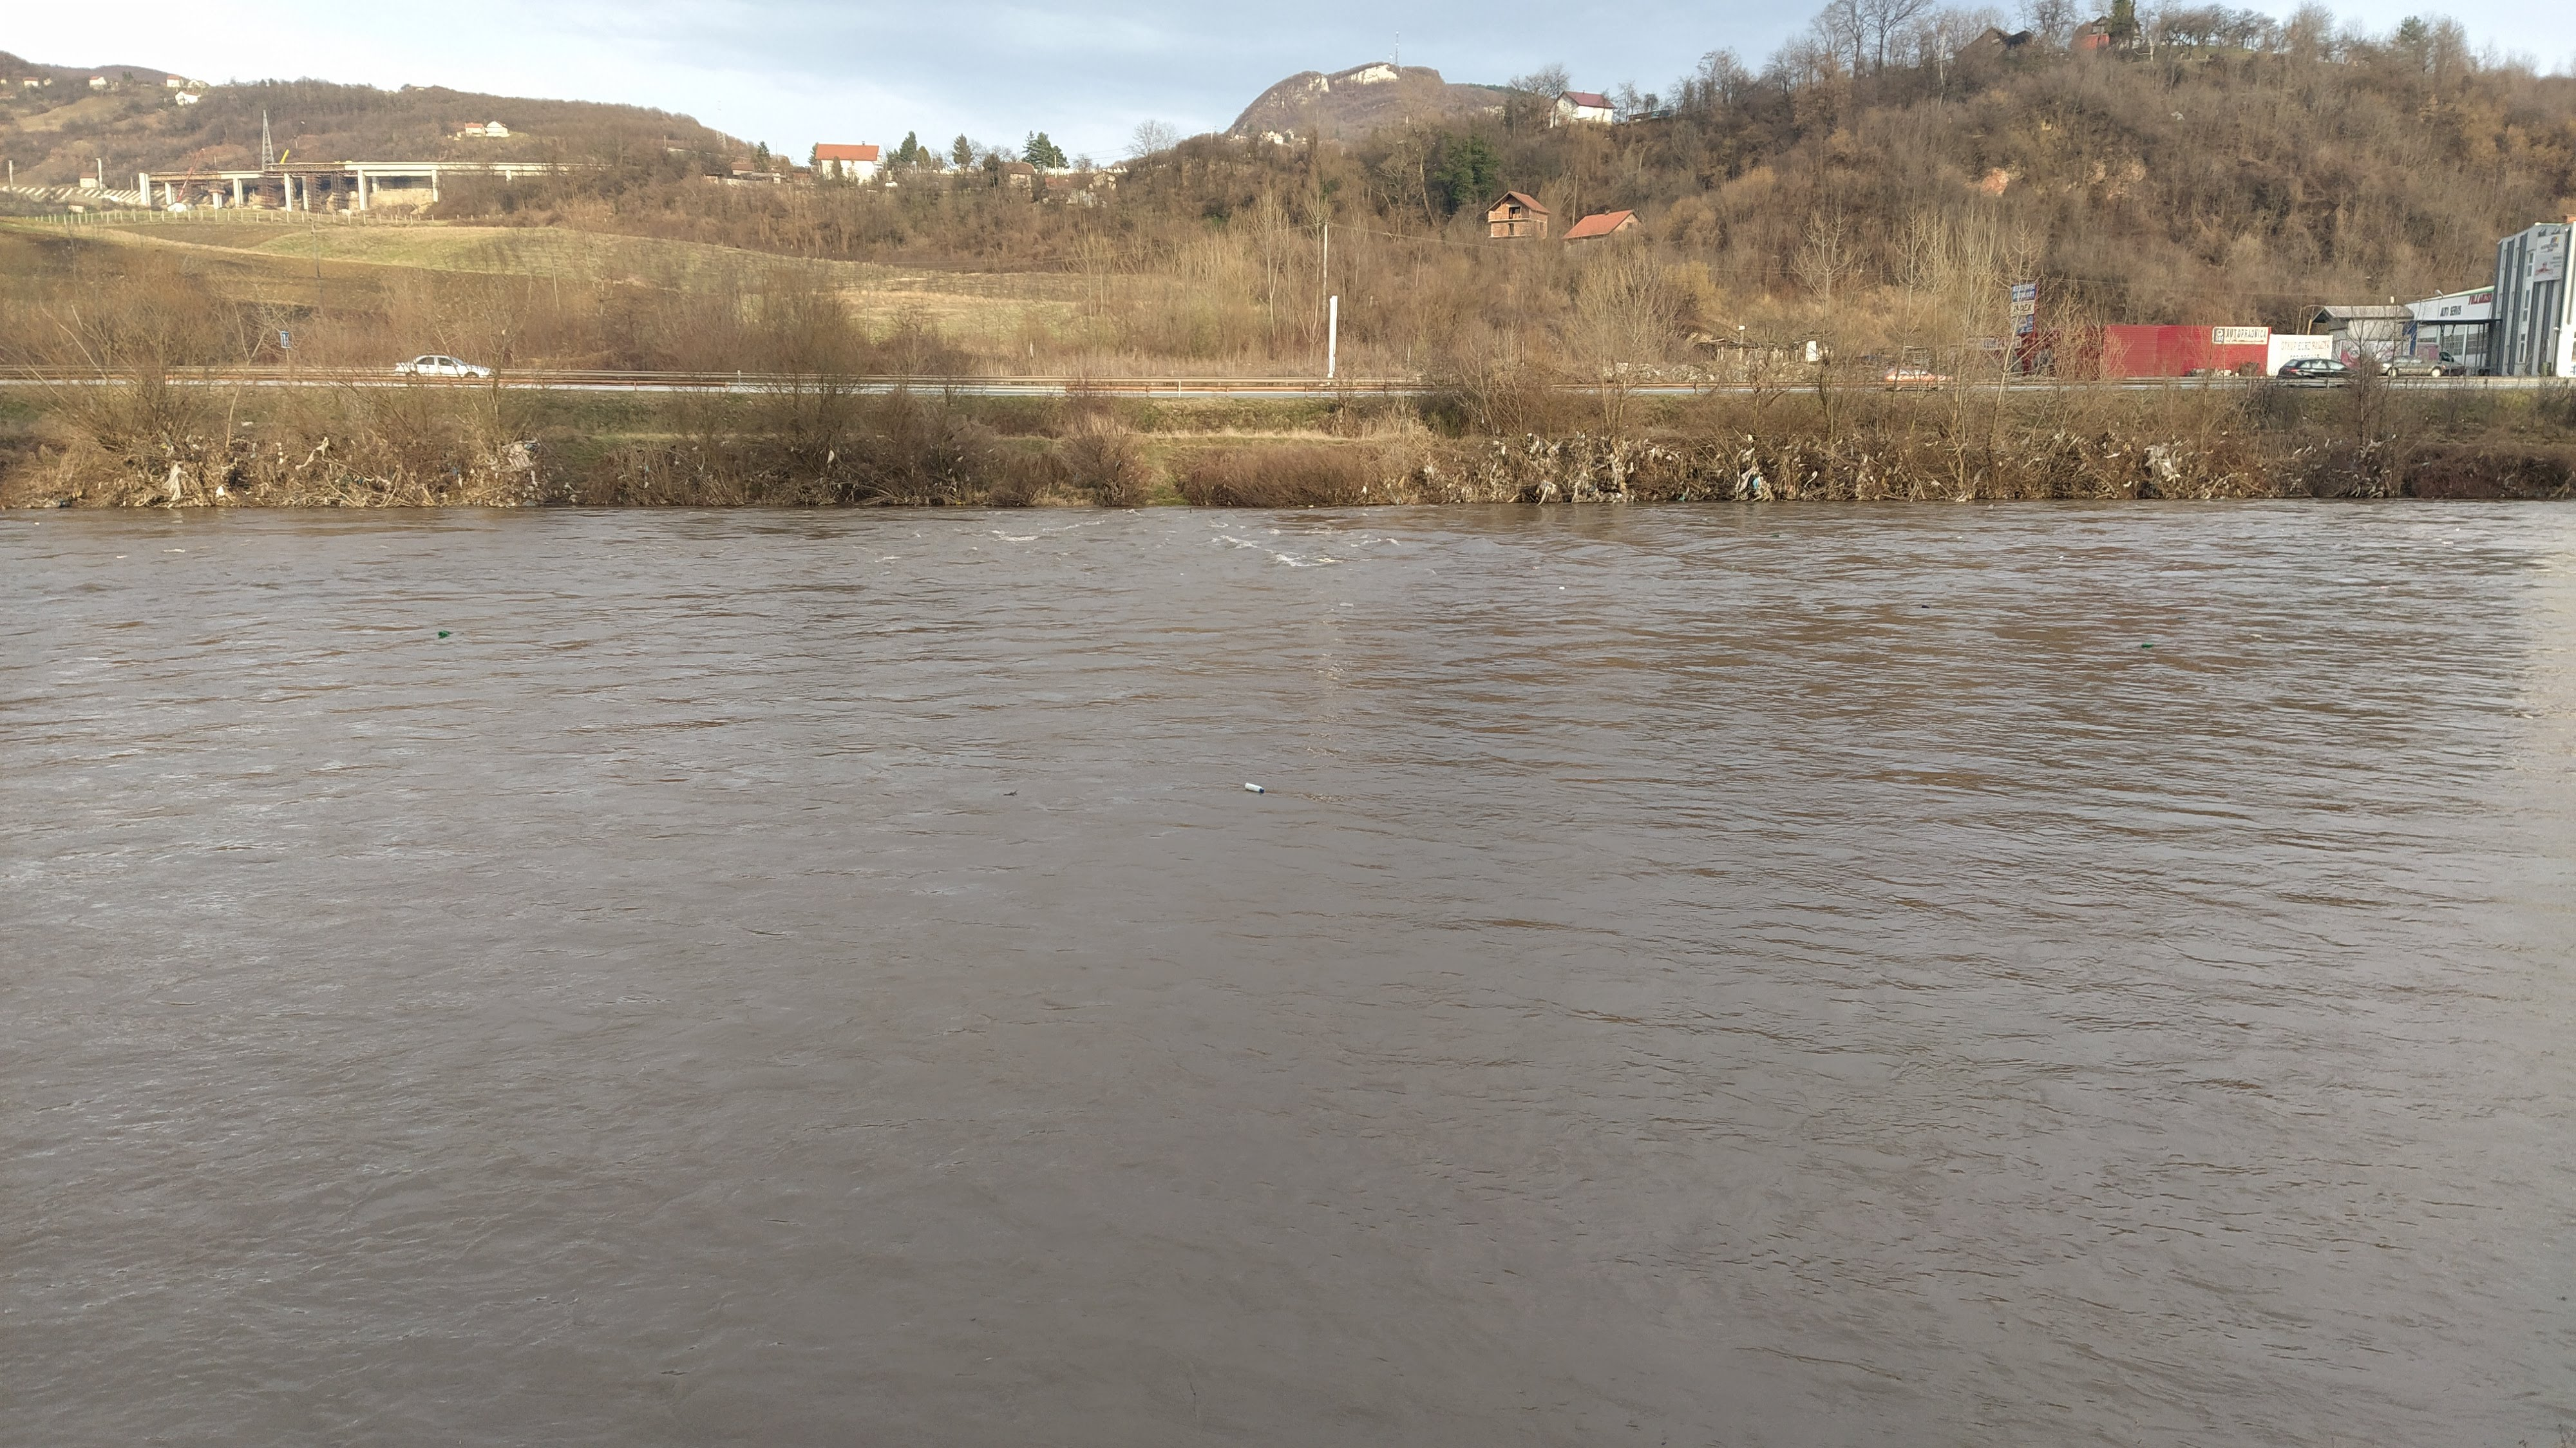Plastic Bottle: (1244, 782, 1265, 793), (437, 630, 455, 639), (1339, 602, 1352, 607), (2141, 644, 2151, 648), (2442, 540, 2452, 543), (1769, 535, 1778, 538), (1921, 605, 1928, 609)
